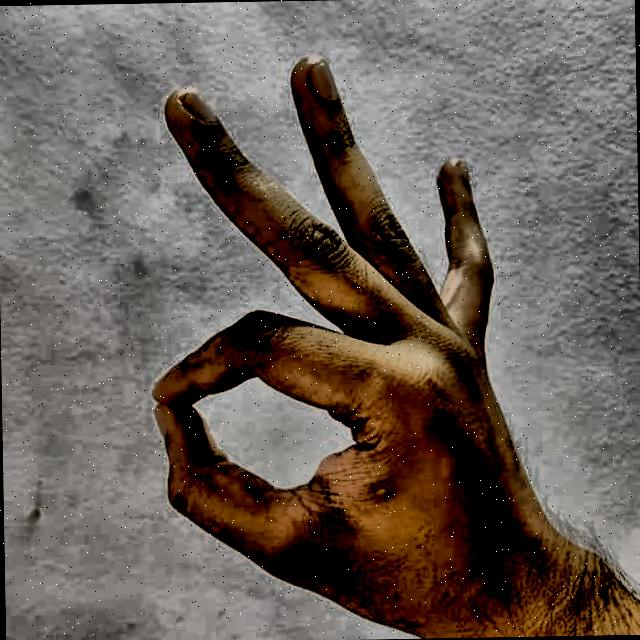Ca: (116, 30, 583, 640)
